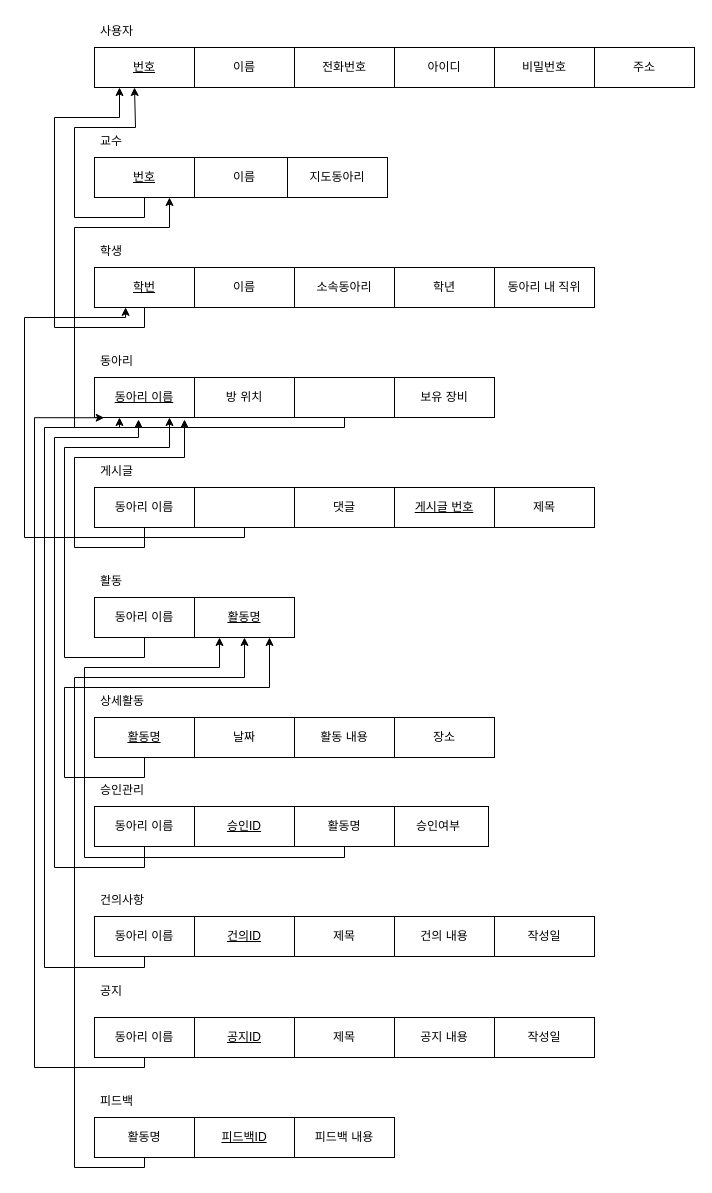
This 712x1193 diagram has some shape labels left out. Each missing label, with the centre of its shape:
"작성자" goes at point (244, 507).
"지도교수" goes at point (344, 397).
